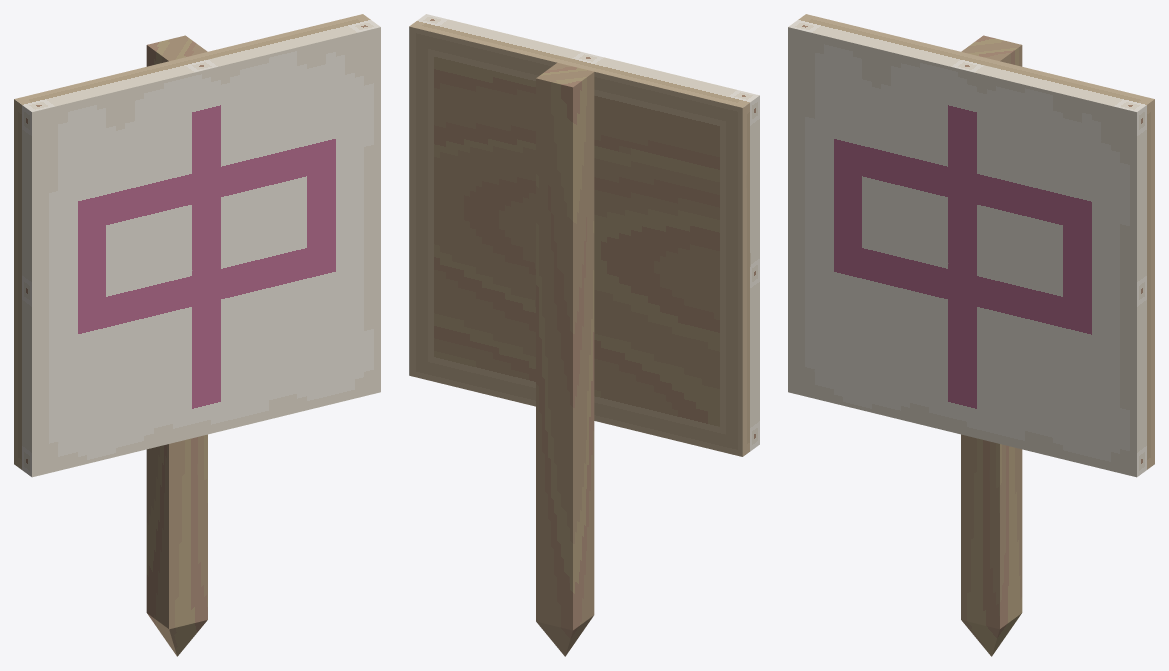
File: 04e2_Progress.glb
3 views of the same model, side by side, from view 1: azimuth 30°, elevation 25°; view 2: azimuth 150°, elevation 25°; view 3: azimuth 330°, elevation 25° (orthographic). The views are drawn at different scales.
Visible parts, largest first — view 1: part_0; view 2: part_0; view 3: part_0.
Part boxes in pixels (x1=…): part_0: x1=14, y1=14, x2=380, y2=656; part_0: x1=409, y1=14, x2=759, y2=656; part_0: x1=788, y1=14, x2=1154, y2=656.
Size of the model in its own units: 0.9 by 1.5 by 0.18.
Materials: 1 (1 with a texture image).
